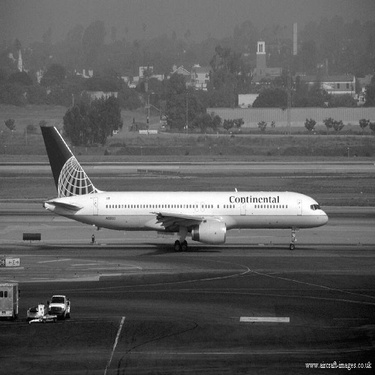airplane: (21, 119, 334, 254)
car: (34, 286, 76, 323)
